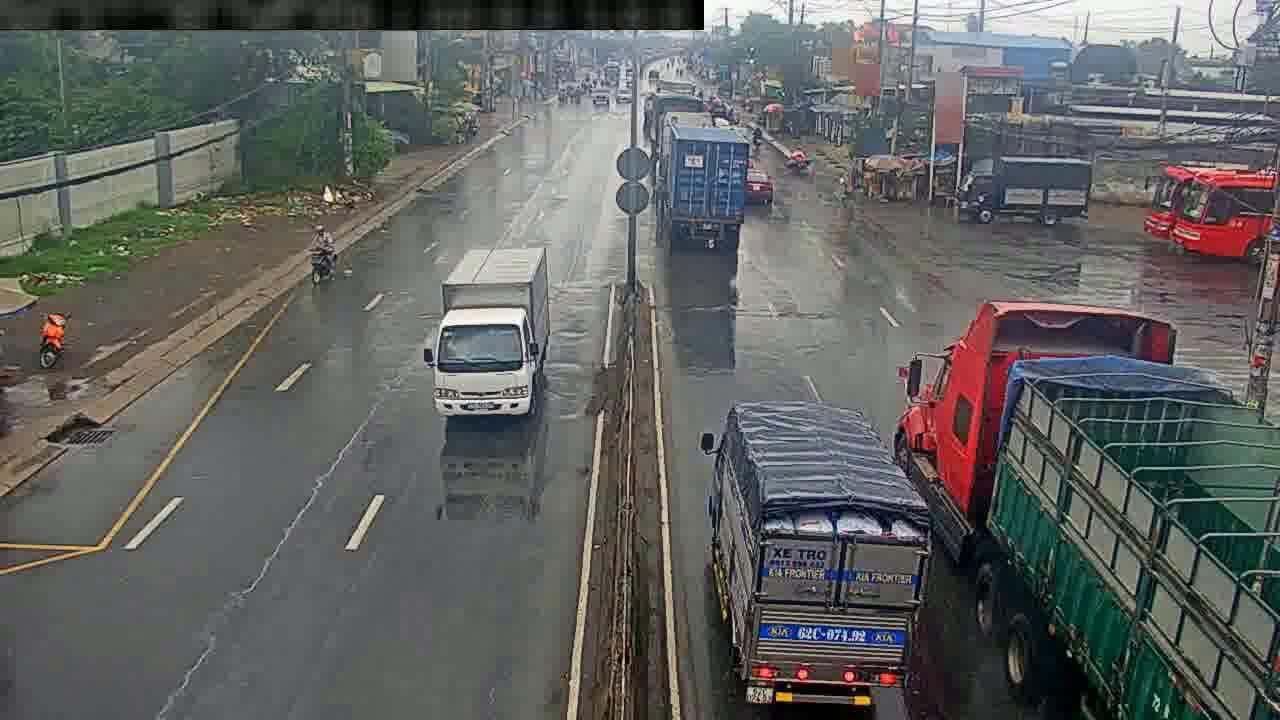8: (892, 291, 1280, 720), (707, 401, 939, 702), (433, 245, 551, 413), (657, 117, 748, 246)
container: (743, 166, 773, 202)
motorbike: (35, 304, 68, 379), (310, 222, 337, 287), (788, 145, 813, 175)
